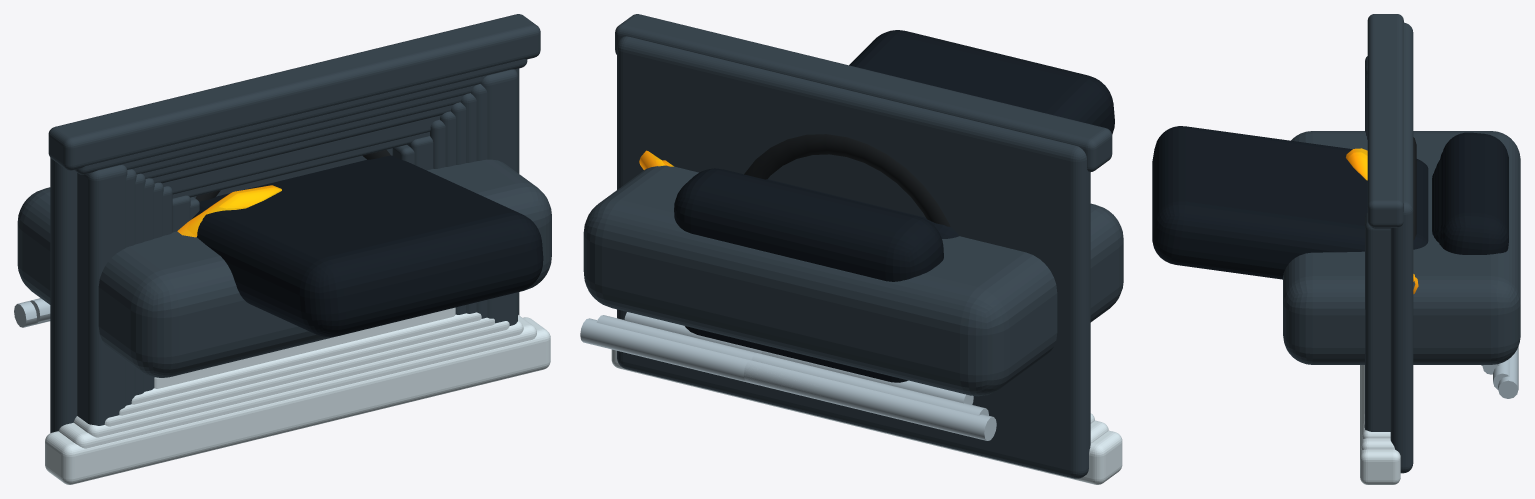
File: body_03.glb
3 views of the same model, side by side, from view 1: azimuth 30°, elevation 25°; view 2: azimuth 150°, elevation 25°; view 3: azimuth 270°, elevation 25° (orthographic). The views are drawn at different scales.
Parts seen in each view (by area): view 1: asset_mesh__body_0170__seat_back, asset_mesh__body_0179__reference_body, asset_mesh__body_0161__lower_flange, asset_mesh__body_0161__upper_flange, asset_mesh__body_0161__left_reinforcement, asset_mesh__body_0161__stamped_sheet, asset_mesh__body_0178__upper_flange, asset_mesh__body_0168__upper_flange, asset_mesh__body_0163__lower_flange, asset_mesh__body_0161__right_reinforcement, asset_mesh__body_0156__upper_flange, asset_mesh__body_0158__upper_flange (+20 smaller); view 2: asset_mesh__body_0161__stamped_sheet, asset_mesh__body_0179__reference_body, asset_mesh__body_0170__seat_cushion, asset_mesh__body_0161__lower_flange, asset_mesh__body_0170__seat_back, asset_mesh__body_0170__left_rail, asset_mesh__body_0187__service_element, asset_mesh__body_0170__right_rail, asset_mesh__body_0161__upper_flange, asset_mesh__body_0169__left_rail, asset_mesh__body_0169__right_rail, asset_mesh__body_0176__left_rail (+1 smaller); view 3: asset_mesh__body_0170__seat_back, asset_mesh__body_0179__reference_body, asset_mesh__body_0161__lower_flange, asset_mesh__body_0161__stamped_sheet, asset_mesh__body_0170__seat_cushion, asset_mesh__body_0161__right_reinforcement, asset_mesh__body_0161__upper_flange, asset_mesh__body_0170__right_rail, asset_mesh__body_0203__fluid_path, asset_mesh__body_0178__upper_flange.
Boxes of the visible parts, left/top/right/bottom form: asset_mesh__body_0170__seat_back: left=191, top=155, right=543, bottom=337; asset_mesh__body_0179__reference_body: left=17, top=159, right=551, bottom=377; asset_mesh__body_0161__lower_flange: left=48, top=14, right=540, bottom=170; asset_mesh__body_0161__upper_flange: left=45, top=317, right=550, bottom=484; asset_mesh__body_0161__left_reinforcement: left=77, top=165, right=127, bottom=425; asset_mesh__body_0161__stamped_sheet: left=50, top=68, right=519, bottom=432; asset_mesh__body_0178__upper_flange: left=59, top=315, right=536, bottom=448; asset_mesh__body_0168__upper_flange: left=74, top=320, right=523, bottom=437; asset_mesh__body_0163__lower_flange: left=162, top=115, right=440, bottom=194; asset_mesh__body_0161__right_reinforcement: left=480, top=69, right=517, bottom=325; asset_mesh__body_0156__upper_flange: left=131, top=312, right=481, bottom=404; asset_mesh__body_0158__upper_flange: left=104, top=321, right=509, bottom=426; asset_mesh__body_0161__stamped_sheet: left=617, top=36, right=1090, bottom=478; asset_mesh__body_0179__reference_body: left=583, top=165, right=1123, bottom=396; asset_mesh__body_0170__seat_cushion: left=674, top=168, right=943, bottom=382; asset_mesh__body_0161__lower_flange: left=615, top=14, right=1112, bottom=172; asset_mesh__body_0170__seat_back: left=766, top=30, right=1114, bottom=238; asset_mesh__body_0170__left_rail: left=744, top=360, right=996, bottom=440; asset_mesh__body_0187__service_element: left=744, top=134, right=950, bottom=226; asset_mesh__body_0170__right_rail: left=580, top=318, right=820, bottom=397; asset_mesh__body_0161__upper_flange: left=611, top=349, right=1122, bottom=484; asset_mesh__body_0169__left_rail: left=751, top=353, right=988, bottom=415; asset_mesh__body_0169__right_rail: left=596, top=315, right=823, bottom=377; asset_mesh__body_0176__left_rail: left=762, top=351, right=973, bottom=404; asset_mesh__body_0170__seat_back: left=1152, top=126, right=1428, bottom=279; asset_mesh__body_0179__reference_body: left=1283, top=131, right=1520, bottom=364; asset_mesh__body_0161__lower_flange: left=1367, top=14, right=1403, bottom=227; asset_mesh__body_0161__stamped_sheet: left=1390, top=22, right=1413, bottom=473; asset_mesh__body_0170__seat_cushion: left=1441, top=132, right=1508, bottom=254; asset_mesh__body_0161__right_reinforcement: left=1365, top=213, right=1390, bottom=431; asset_mesh__body_0161__upper_flange: left=1360, top=365, right=1400, bottom=484; asset_mesh__body_0170__right_rail: left=1498, top=346, right=1518, bottom=398; asset_mesh__body_0203__fluid_path: left=1346, top=148, right=1418, bottom=294; asset_mesh__body_0178__upper_flange: left=1361, top=365, right=1394, bottom=450.
Bounding box in the file's own units: 1.72 × 1.15 × 1.37.
